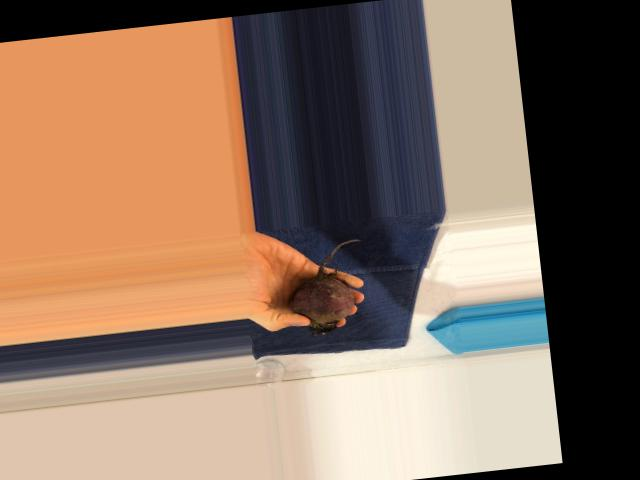beet: (283, 238, 371, 337)
